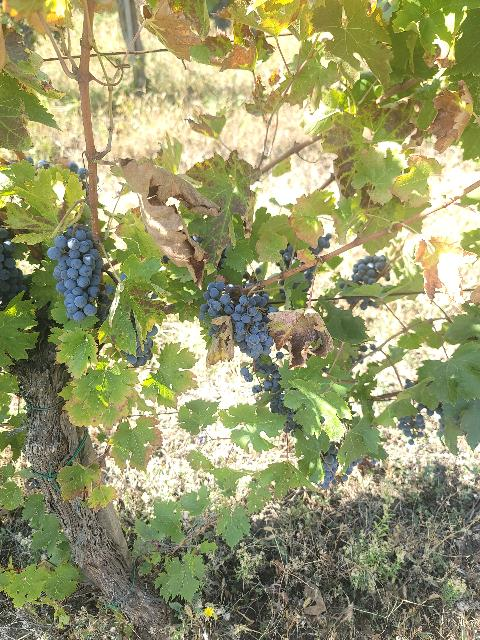grapes: (48, 229, 104, 322), (231, 292, 274, 365), (199, 281, 235, 321), (351, 255, 388, 285)
